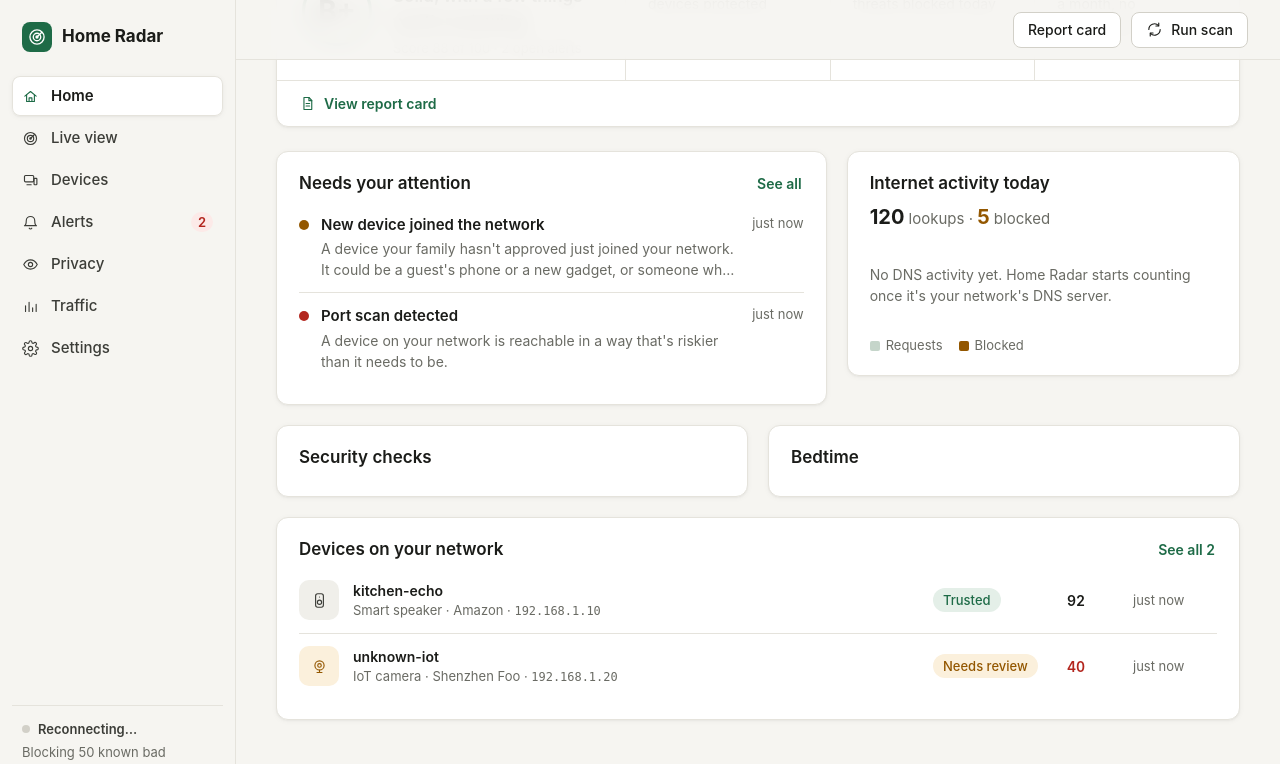
it: Bedtime › saves the 9 PM to 7 AM preset through the device policy API
The width and height of the screenshot is (1280, 764).
(page scrolled)
Click the text "unknown-iot" at {"x": 396, "y": 656}, box x1=353 y1=648 x2=439 y2=665
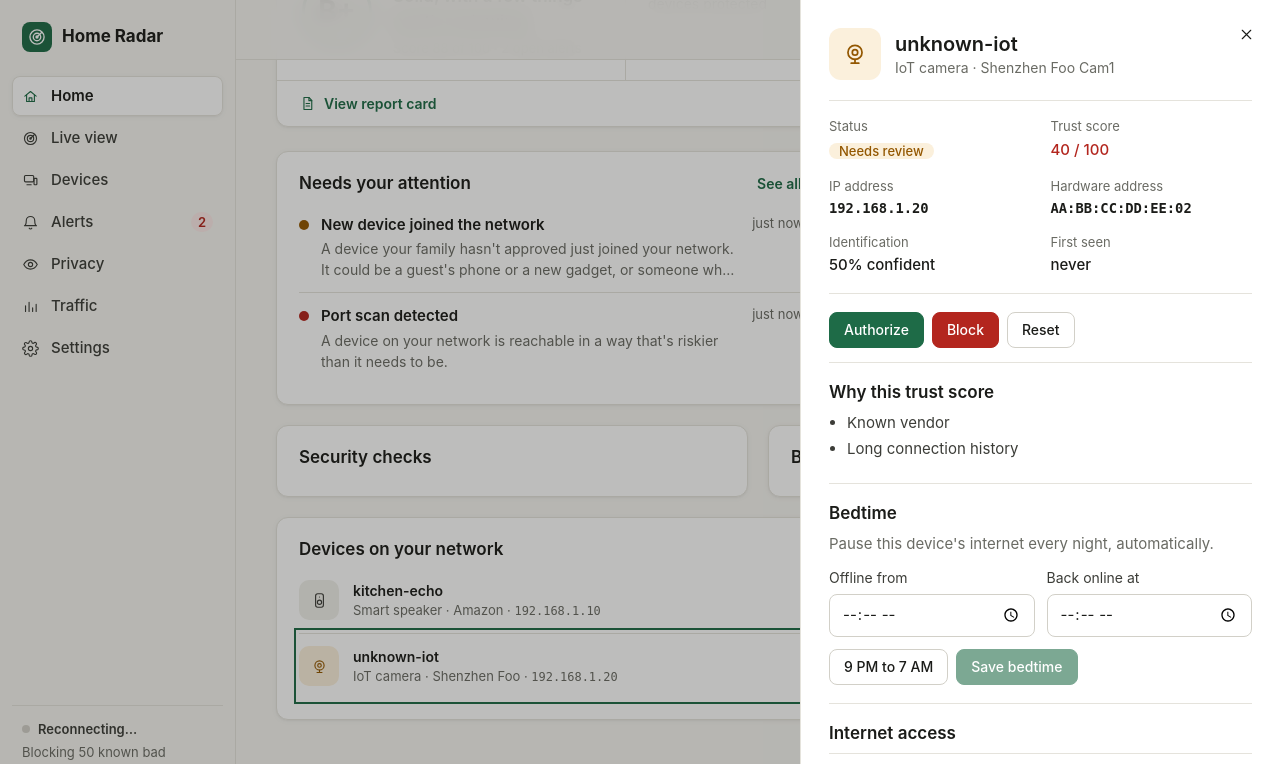
Click the button "9 PM to 7 AM" at {"x": 889, "y": 667}, box x1=829 y1=649 x2=948 y2=685
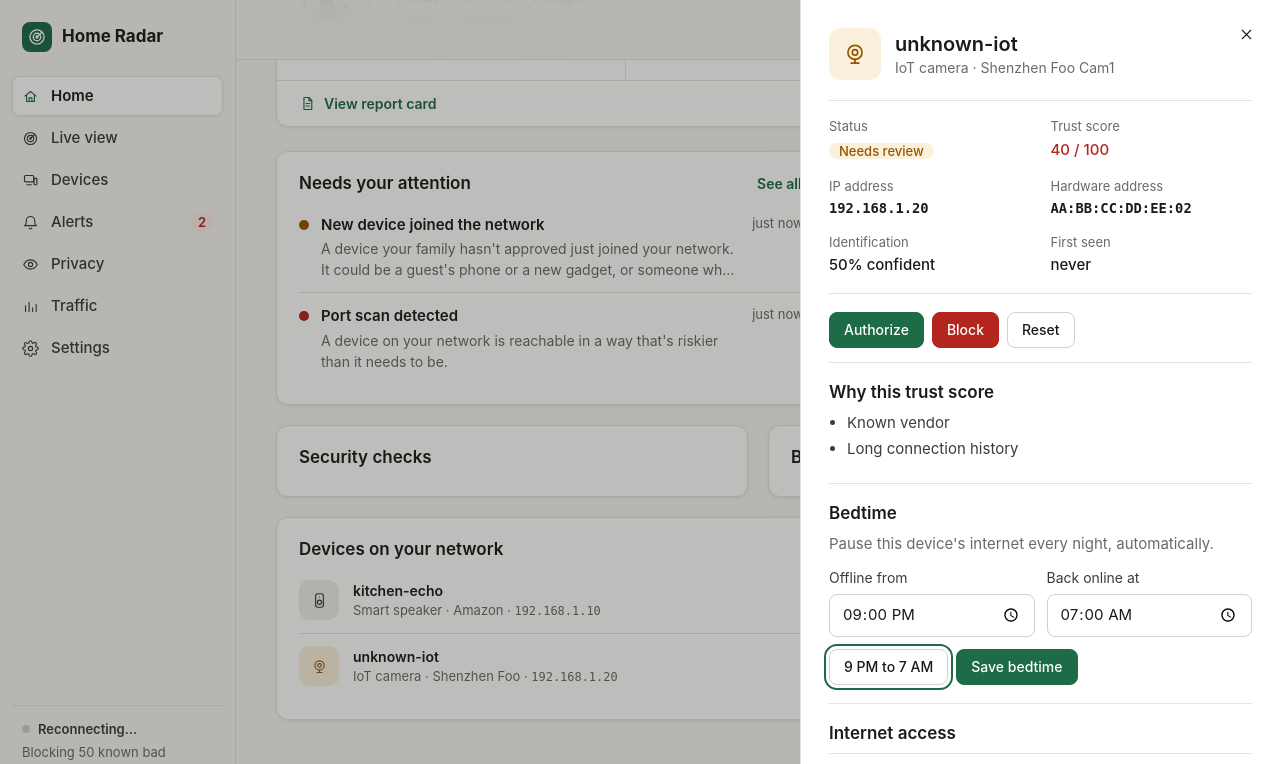
Click the button "Save bedtime" at {"x": 1017, "y": 667}, box x1=956 y1=649 x2=1078 y2=685
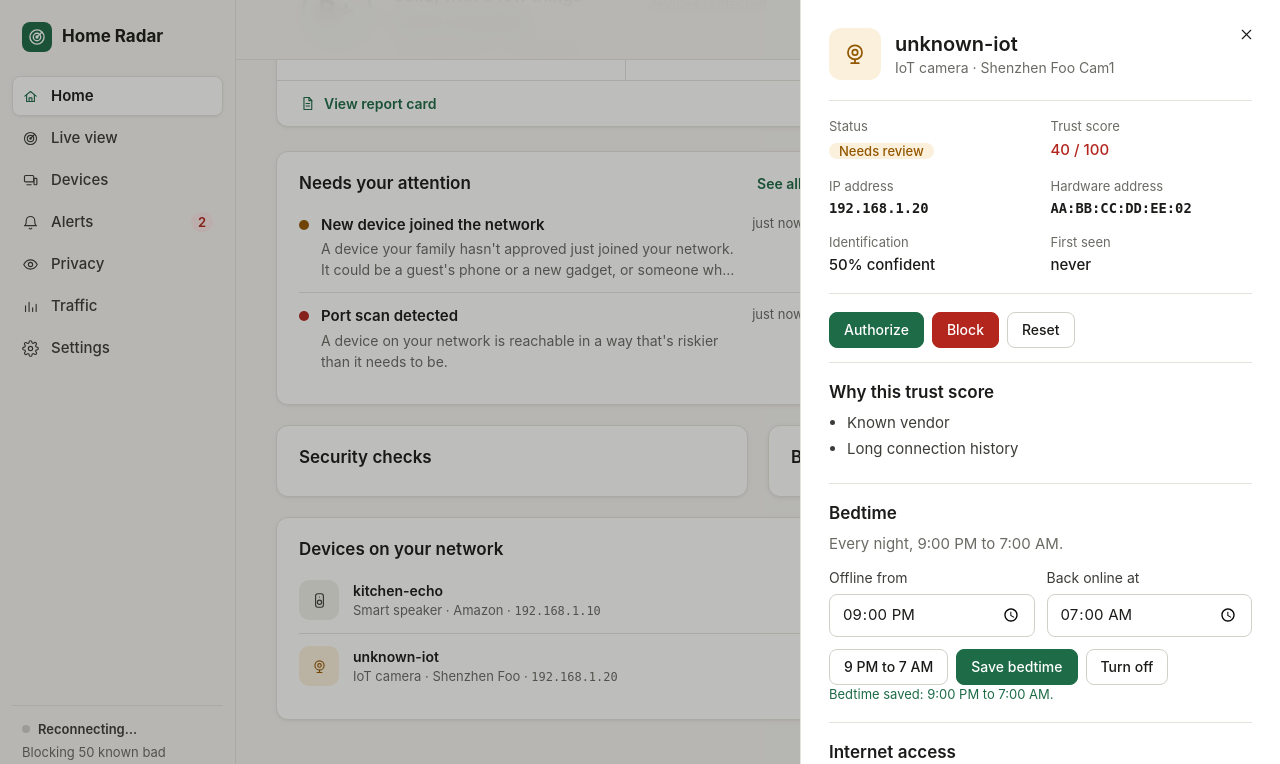
Expected: the text "Bedtime saved: 9:00 PM to 7:00 AM." is shown, x1=829 y1=686 x2=1054 y2=702
